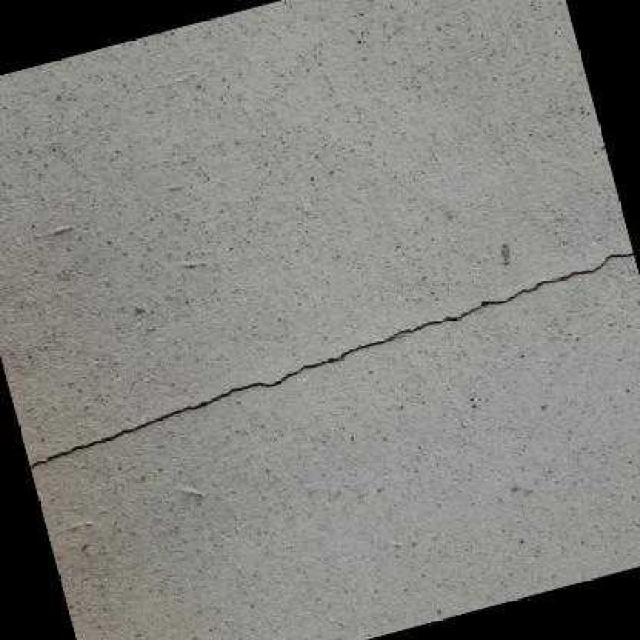D00: (28, 252, 634, 468)
